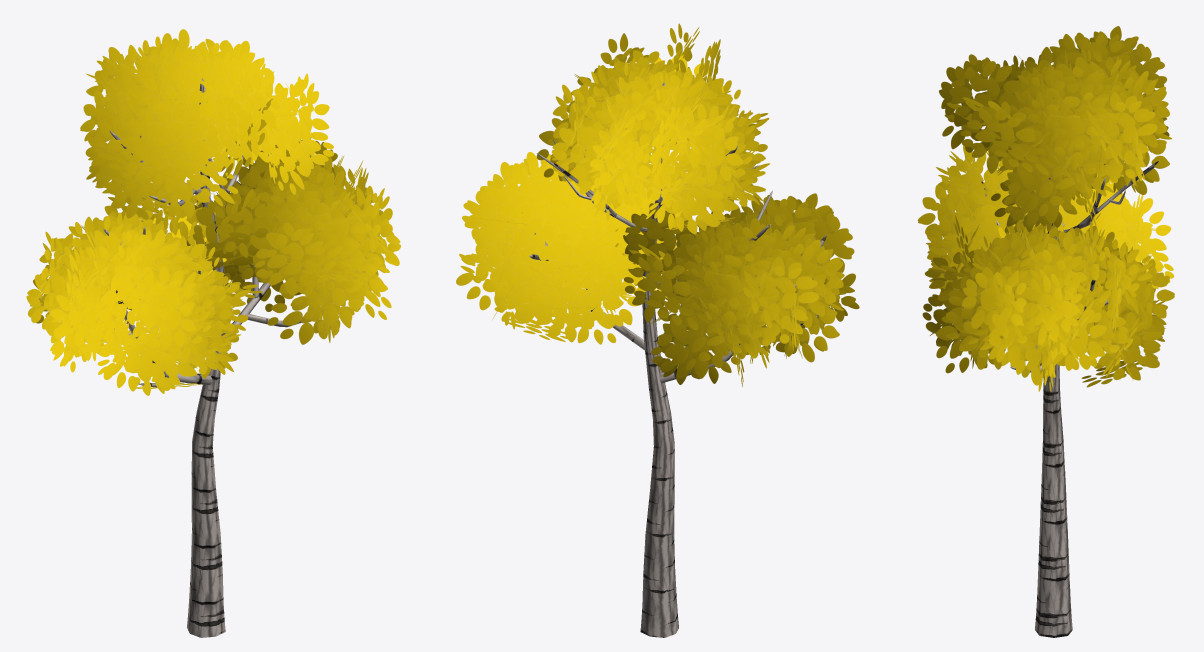
Rendered from prop_sn_birch_tree_4.glb.
3 views of the same model, side by side, from view 1: azimuth 30°, elevation 25°; view 2: azimuth 150°, elevation 25°; view 3: azimuth 270°, elevation 25° (orthographic).
Visible parts, largest first — view 1: BirchTree_4; view 2: BirchTree_4; view 3: BirchTree_4.
Part boxes in pixels (left/top/right/bottom): BirchTree_4: left=26, top=29, right=400, bottom=637; BirchTree_4: left=456, top=23, right=859, bottom=637; BirchTree_4: left=917, top=26, right=1174, bottom=637.
Size of the model in its own units: 2.78 by 4.21 by 1.84.
2 materials, 2 textured.
